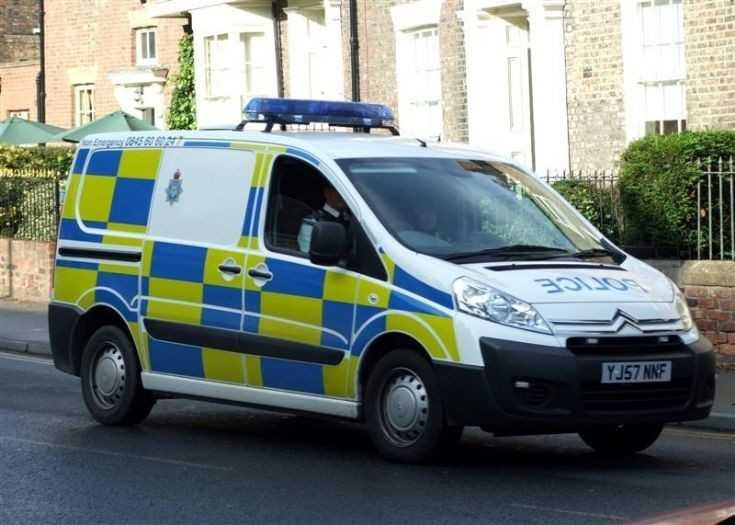Police Van: (14, 50, 720, 472)
